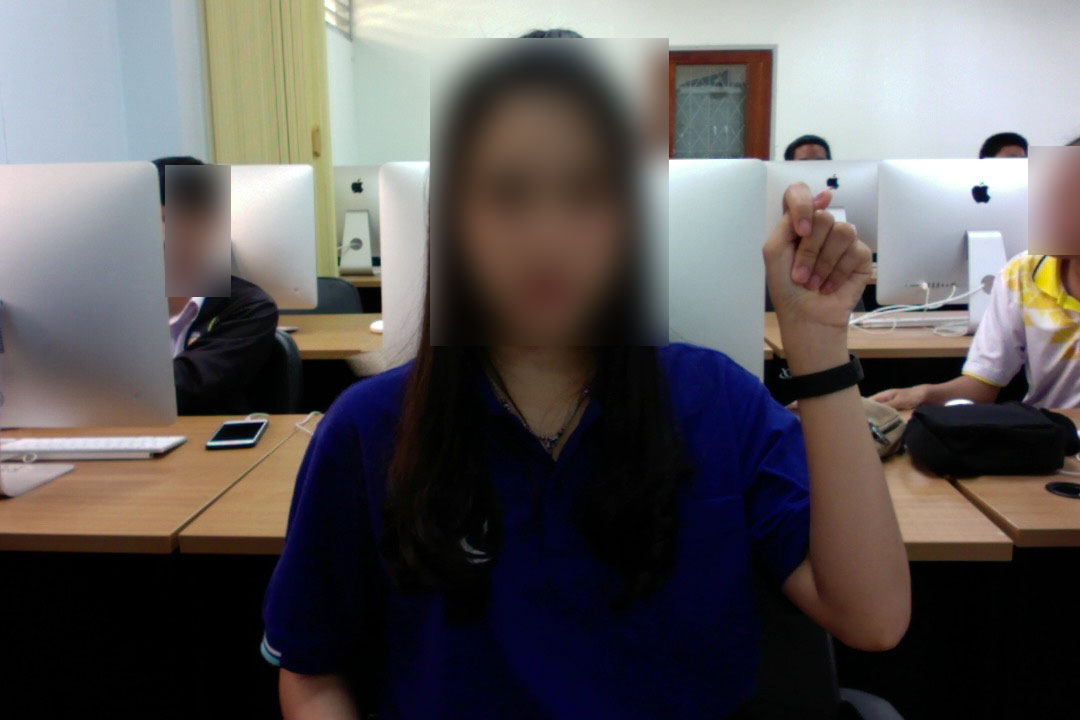tor: (755, 180, 876, 348)
